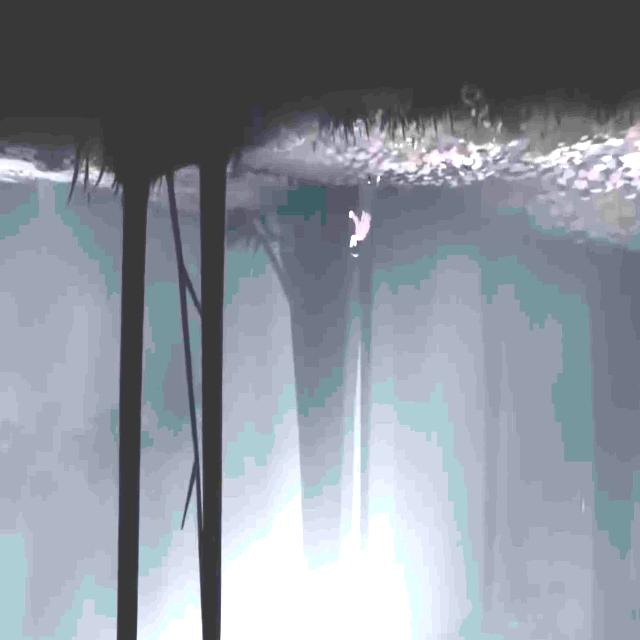boy: (349, 175, 380, 258)
